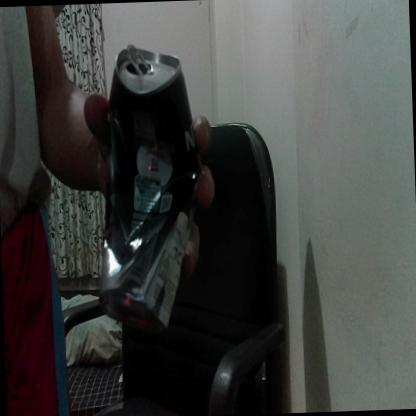alumunium_can: (87, 38, 204, 338)
